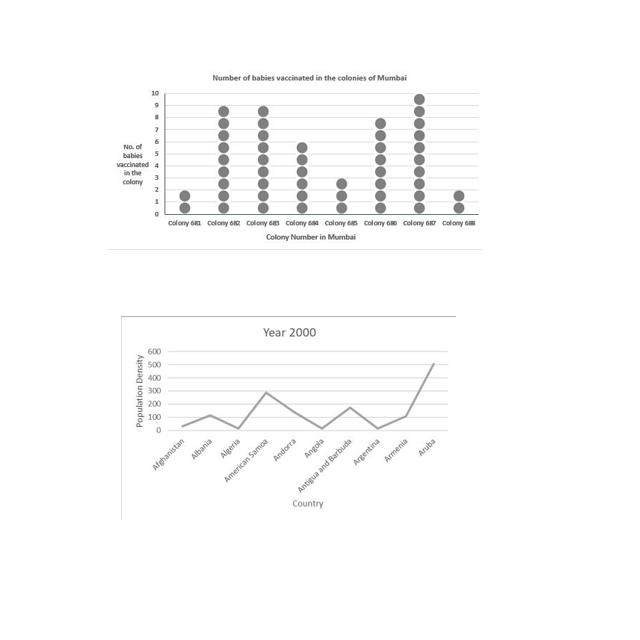Graph: (121, 316, 456, 520), (107, 70, 482, 250)
